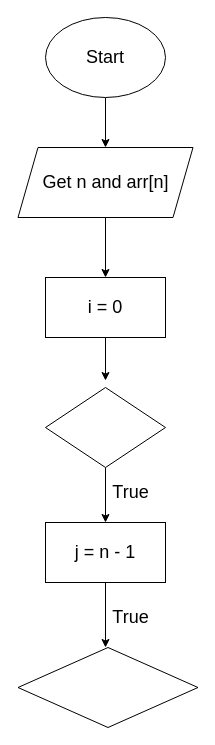
This 215x745 diagram has some shape labels left out. The shapes that lost their labels are listed below. From the top down, each one's box as (x1, y1, x2, y2) in pixels, then its label:
(44, 386, 166, 468): i < n
(17, 646, 198, 728): arr
